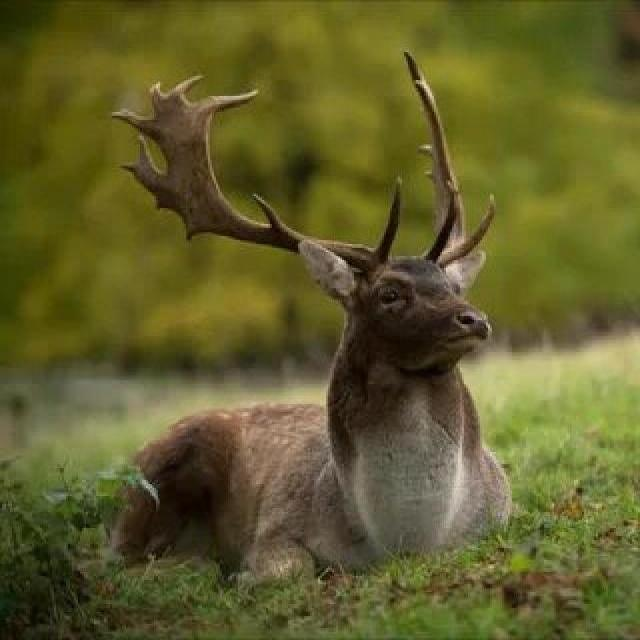deer: (39, 41, 564, 602)
